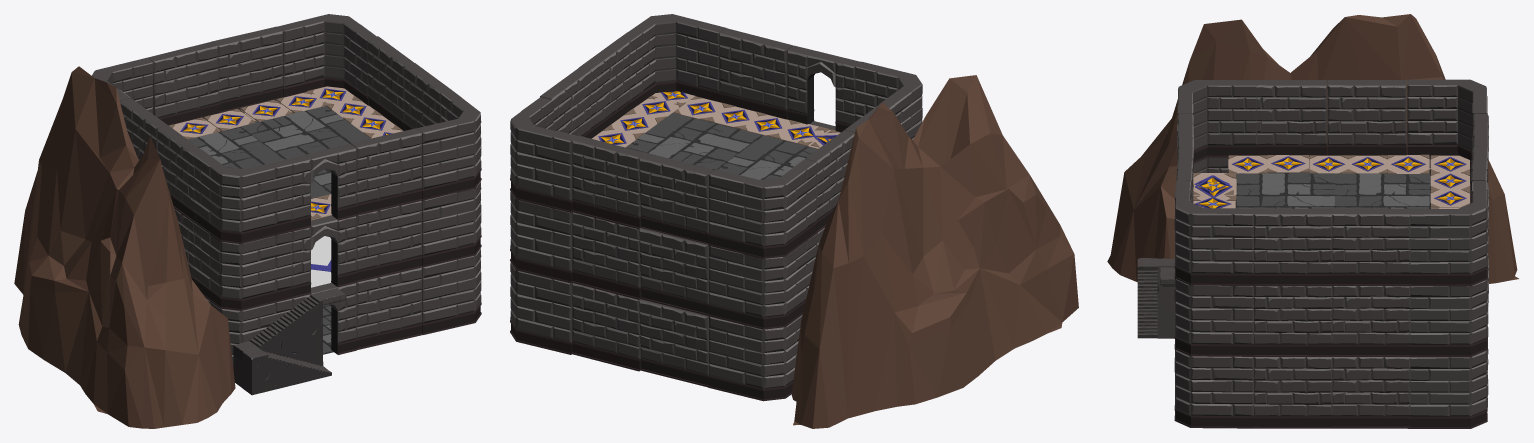
The model's file is skeletontower14.glb.
3 renders of one model, left to right at view 1: azimuth 30°, elevation 25°; view 2: azimuth 150°, elevation 25°; view 3: azimuth 270°, elevation 25°, orthographic. The views are drawn at different scales.
Parts seen in each view (by area): view 1: Mountain_02, Module_Stone_Curve_01.010, Module_Stone_Curve_01.006, Module_Stone_Curve_01.009, Stairs_L_01, Module_Stone_Curve_01.011, Module_Stone_Straight_01.014, Module_Stone_Straight_01.015, Module_Stone_Straight_01.016, Module_Stone_Straight_01, Module_Stone_Straight_01.002, Module_Stone_Curve_01.003 (+21 smaller); view 2: Mountain_02, Module_Stone_Curve_01.008, Module_Stone_Curve_01.004, Module_Stone_Curve_01.011, Module_Stone_Curve_01, Module_Stone_Curve_01.009, Module_Stone_Straight_01.016, Module_Stone_Straight_01.015, Module_Stone_Straight_01.014, Module_Stone_Straight_01.006, Module_Stone_Straight_01.003, Module_Stone_Straight_01.001 (+17 smaller); view 3: Mountain_02, Module_Stone_Curve_01.011, Module_Stone_Curve_01.009, Module_Stone_Straight_01.020, Module_Stone_Straight_01.019, Module_Stone_Straight_01.018, Module_Stone_Curve_01.003, Module_Stone_Straight_01.010, Module_Stone_Straight_01.009, Module_Stone_Curve_01.007, Module_Stone_Curve_01.001, Module_Stone_Curve_01.005 (+24 smaller).
Boxes of the visible parts, x1,y1,x2,y2 form: Mountain_02: [14, 66, 235, 428]; Module_Stone_Curve_01.010: [190, 149, 293, 244]; Module_Stone_Curve_01.006: [191, 223, 293, 310]; Module_Stone_Curve_01.009: [278, 14, 376, 105]; Stairs_L_01: [233, 294, 331, 395]; Module_Stone_Curve_01.011: [417, 90, 481, 200]; Module_Stone_Straight_01.014: [350, 128, 422, 215]; Module_Stone_Straight_01.015: [147, 41, 219, 125]; Module_Stone_Straight_01.016: [211, 26, 283, 112]; Module_Stone_Straight_01: [356, 267, 422, 349]; Module_Stone_Straight_01.002: [356, 201, 422, 282]; Module_Stone_Curve_01.003: [422, 248, 481, 334]; Mountain_02: [791, 75, 1078, 428]; Module_Stone_Curve_01.008: [708, 159, 817, 258]; Module_Stone_Curve_01.004: [708, 234, 816, 329]; Module_Stone_Curve_01.011: [618, 14, 725, 110]; Module_Stone_Curve_01: [708, 315, 802, 401]; Module_Stone_Curve_01.009: [510, 97, 577, 212]; Module_Stone_Straight_01.016: [572, 135, 645, 229]; Module_Stone_Straight_01.015: [639, 153, 713, 244]; Module_Stone_Straight_01.014: [719, 28, 793, 119]; Module_Stone_Straight_01.006: [639, 299, 708, 387]; Module_Stone_Straight_01.003: [639, 228, 708, 315]; Module_Stone_Straight_01.001: [572, 283, 641, 371]; Mountain_02: [1107, 14, 1518, 283]; Module_Stone_Curve_01.011: [1174, 180, 1254, 285]; Module_Stone_Curve_01.009: [1409, 181, 1488, 286]; Module_Stone_Straight_01.020: [1254, 208, 1332, 286]; Module_Stone_Straight_01.019: [1332, 208, 1410, 286]; Module_Stone_Straight_01.018: [1327, 80, 1406, 155]; Module_Stone_Curve_01.003: [1174, 349, 1253, 428]; Module_Stone_Straight_01.010: [1254, 357, 1332, 428]; Module_Stone_Straight_01.009: [1332, 357, 1410, 428]; Module_Stone_Curve_01.007: [1174, 278, 1253, 356]; Module_Stone_Curve_01.001: [1408, 340, 1488, 428]; Module_Stone_Curve_01.005: [1408, 269, 1488, 357].
Size of what is drawn, in the model's own units: 24.09 by 14.65 by 20.9.
11 materials, 11 textured.
